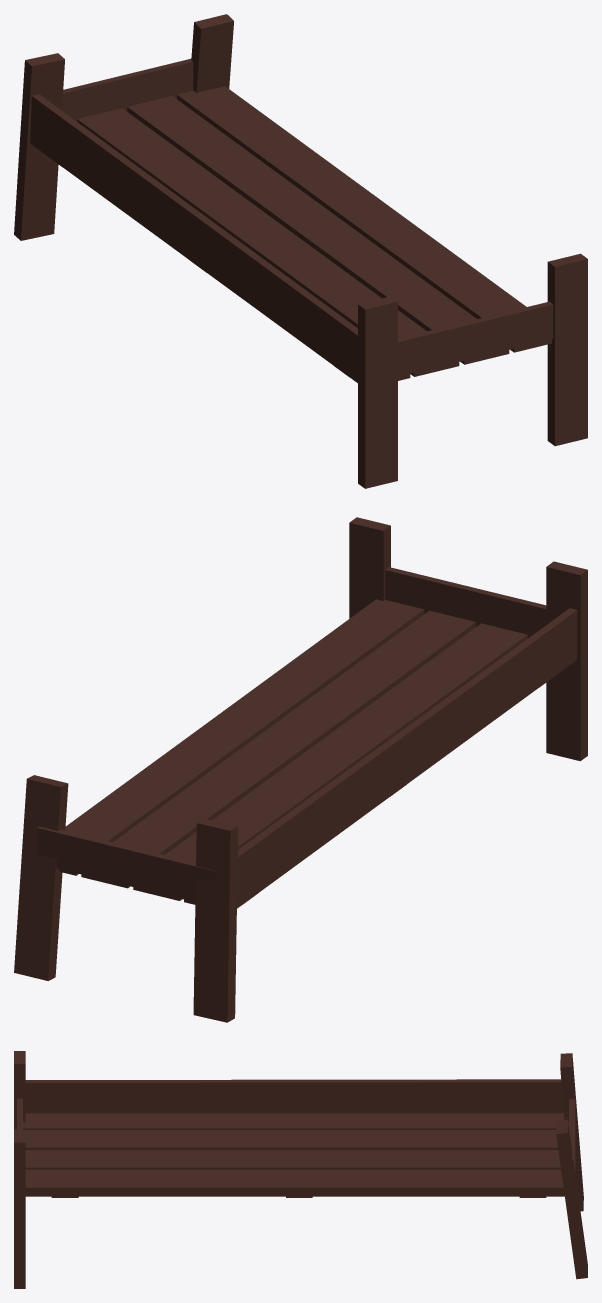
File: SM_Bed.fbx
The picture shows the model from 3 angles, top to bottom: view 1: azimuth 30°, elevation 25°; view 2: azimuth 150°, elevation 25°; view 3: azimuth 270°, elevation 25°; orthographic projection. The views are drawn at different scales.
Visible parts, largest first — view 1: Bed; view 2: Bed; view 3: Bed.
Boxes of the visible parts, bbox=[...] form: Bed: bbox=[14, 14, 587, 488]; Bed: bbox=[14, 517, 587, 1022]; Bed: bbox=[14, 1051, 587, 1288].
Bounding box in the file's own units: 5.01 × 3.9 × 13.58.
